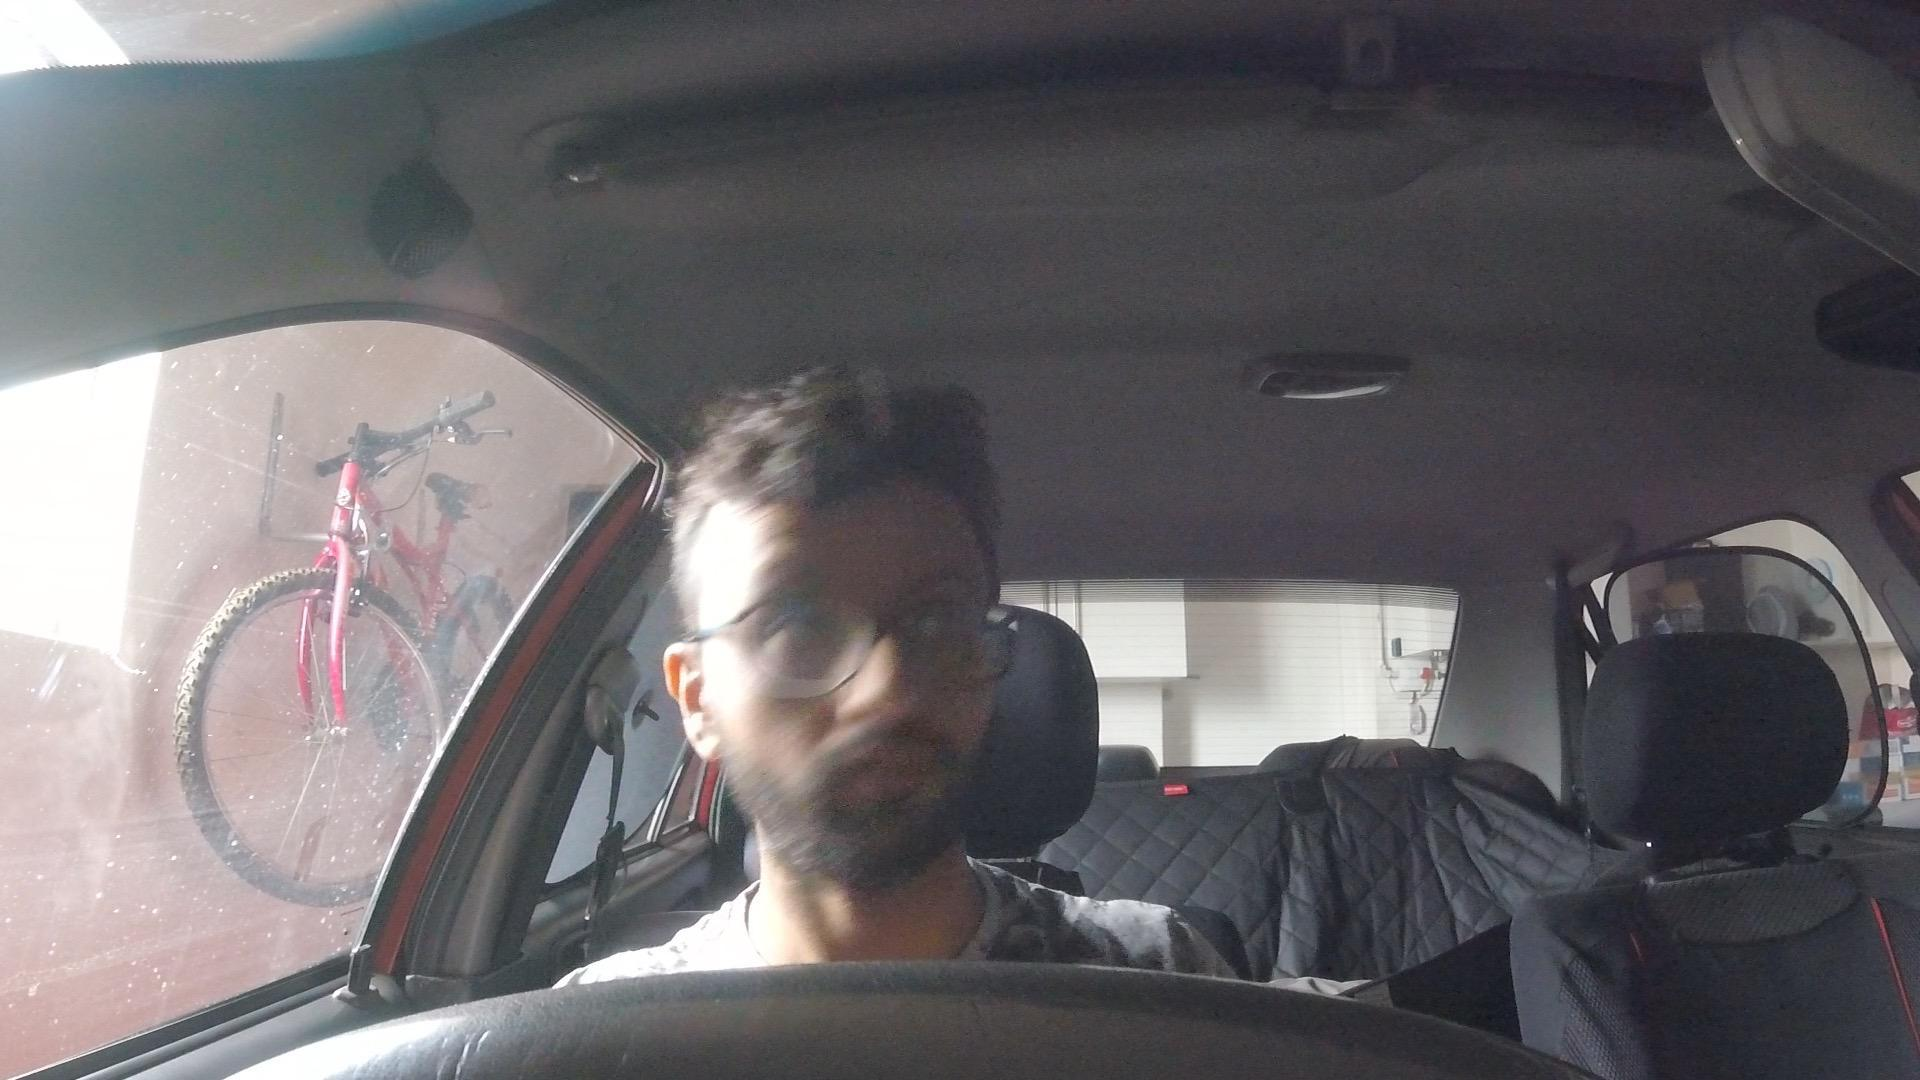SafeDriving: (659, 357, 1021, 893)
